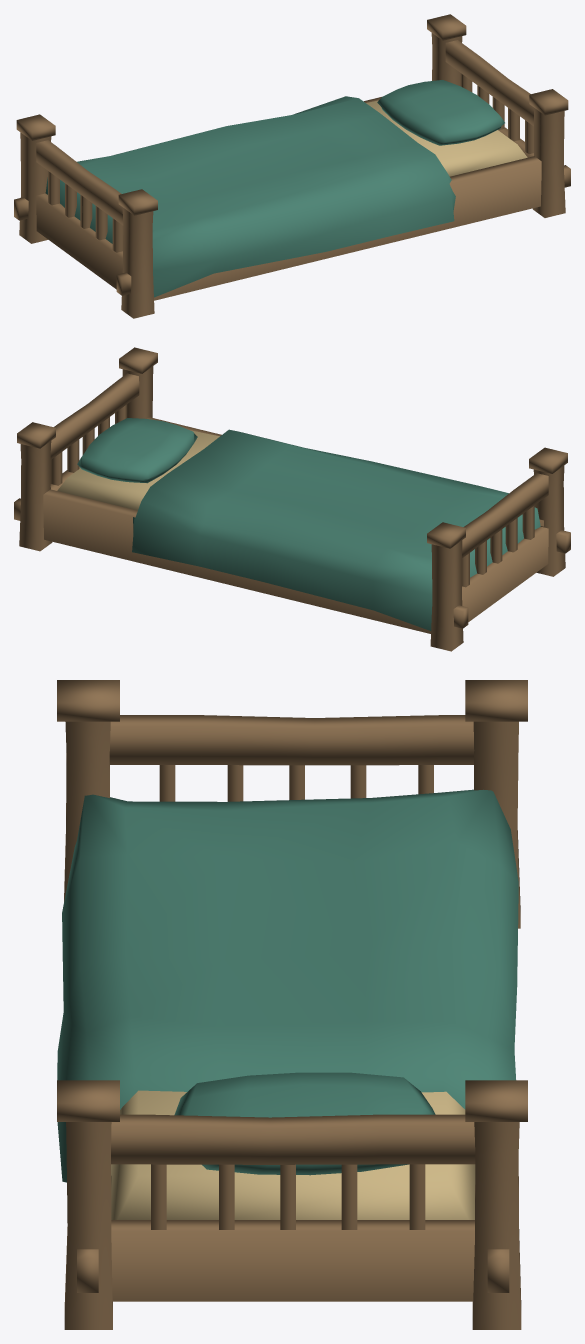
Rendered from rpgpp_ag_bed_01c.fbx.
3 renders of one model, top to bottom at view 1: azimuth 30°, elevation 25°; view 2: azimuth 150°, elevation 25°; view 3: azimuth 270°, elevation 25°, orthographic. The views are drawn at different scales.
Parts seen in each view (by area): view 1: rpgpp_ag_bed_01c; view 2: rpgpp_ag_bed_01c; view 3: rpgpp_ag_bed_01c.
Part boxes in pixels (x1,y1,x2,y2): rpgpp_ag_bed_01c: (14,14,570,318); rpgpp_ag_bed_01c: (14,347,570,651); rpgpp_ag_bed_01c: (57,680,527,1329).
Bounding box in the file's own units: 2.74 × 0.6644 × 1.25.
